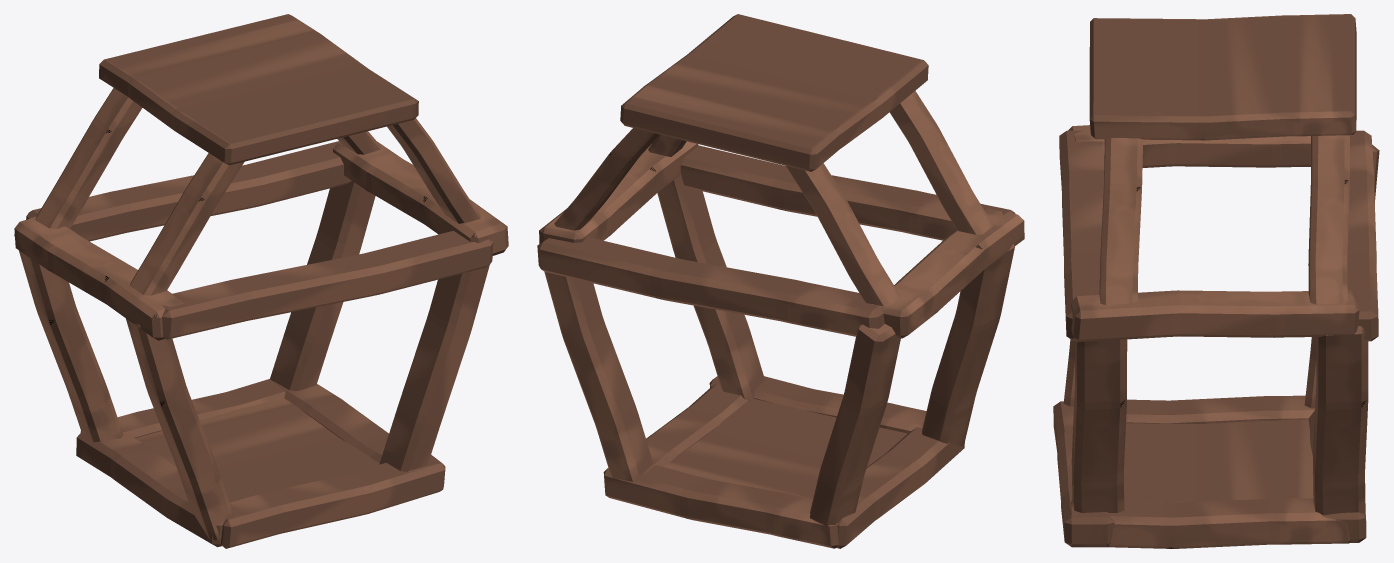
File: interior-lamp.fbx
The picture shows the model from 3 angles, left to right: view 1: azimuth 30°, elevation 25°; view 2: azimuth 150°, elevation 25°; view 3: azimuth 270°, elevation 25°; orthographic projection. The views are drawn at different scales.
Visible parts, largest first — view 1: Cube.415, Cube.414, Cube.420, Cube.413, Cube.399, Cube.412, Cube.400, Cube.405, Cube.407, Cube.406, Cube.409, Cube.410 (+6 smaller); view 2: Cube.415, Cube.413, Cube.420, Cube.414, Cube.405, Cube.411, Cube.406, Cube.400, Cube.399, Cube.407, Cube.410, Cube.419 (+5 smaller); view 3: Cube.415, Cube.420, Cube.409, Cube.408, Cube.405, Cube.399, Cube.414, Cube.417, Cube.416, Cube.407, Cube.413, Cube.410 (+4 smaller).
Boxes of the visible parts, x1=… form: Cube.415: x1=99, y1=14, x2=418, y2=165; Cube.414: x1=162, y1=230, x2=493, y2=339; Cube.420: x1=135, y1=398, x2=379, y2=502; Cube.413: x1=26, y1=141, x2=351, y2=241; Cube.399: x1=379, y1=265, x2=489, y2=471; Cube.412: x1=220, y1=454, x2=445, y2=548; Cube.400: x1=126, y1=318, x2=233, y2=540; Cube.405: x1=270, y1=180, x2=375, y2=390; Cube.407: x1=14, y1=216, x2=183, y2=340; Cube.406: x1=14, y1=234, x2=123, y2=442; Cube.409: x1=333, y1=141, x2=508, y2=255; Cube.410: x1=76, y1=431, x2=246, y2=547; Cube.415: x1=620, y1=14, x2=928, y2=171; Cube.413: x1=537, y1=237, x2=884, y2=336; Cube.420: x1=664, y1=399, x2=907, y2=499; Cube.414: x1=680, y1=145, x2=1015, y2=240; Cube.405: x1=544, y1=272, x2=653, y2=491; Cube.411: x1=603, y1=465, x2=838, y2=548; Cube.406: x1=810, y1=324, x2=900, y2=528; Cube.400: x1=922, y1=243, x2=1014, y2=446; Cube.399: x1=657, y1=173, x2=765, y2=400; Cube.407: x1=871, y1=208, x2=1024, y2=338; Cube.410: x1=836, y1=427, x2=964, y2=548; Cube.419: x1=786, y1=163, x2=900, y2=306; Cube.415: x1=1089, y1=14, x2=1356, y2=140; Cube.420: x1=1124, y1=419, x2=1313, y2=502; Cube.409: x1=1071, y1=290, x2=1359, y2=342; Cube.408: x1=1071, y1=498, x2=1350, y2=548; Cube.405: x1=1313, y1=326, x2=1368, y2=515; Cube.399: x1=1071, y1=339, x2=1127, y2=512; Cube.414: x1=1059, y1=130, x2=1104, y2=341; Cube.417: x1=1308, y1=135, x2=1349, y2=304; Cube.416: x1=1099, y1=138, x2=1142, y2=305; Cube.407: x1=1068, y1=125, x2=1310, y2=167; Cube.413: x1=1347, y1=130, x2=1378, y2=341; Cube.410: x1=1067, y1=395, x2=1314, y2=423.
Bounding box in the file's own units: 32.14 × 32.56 × 22.44.
